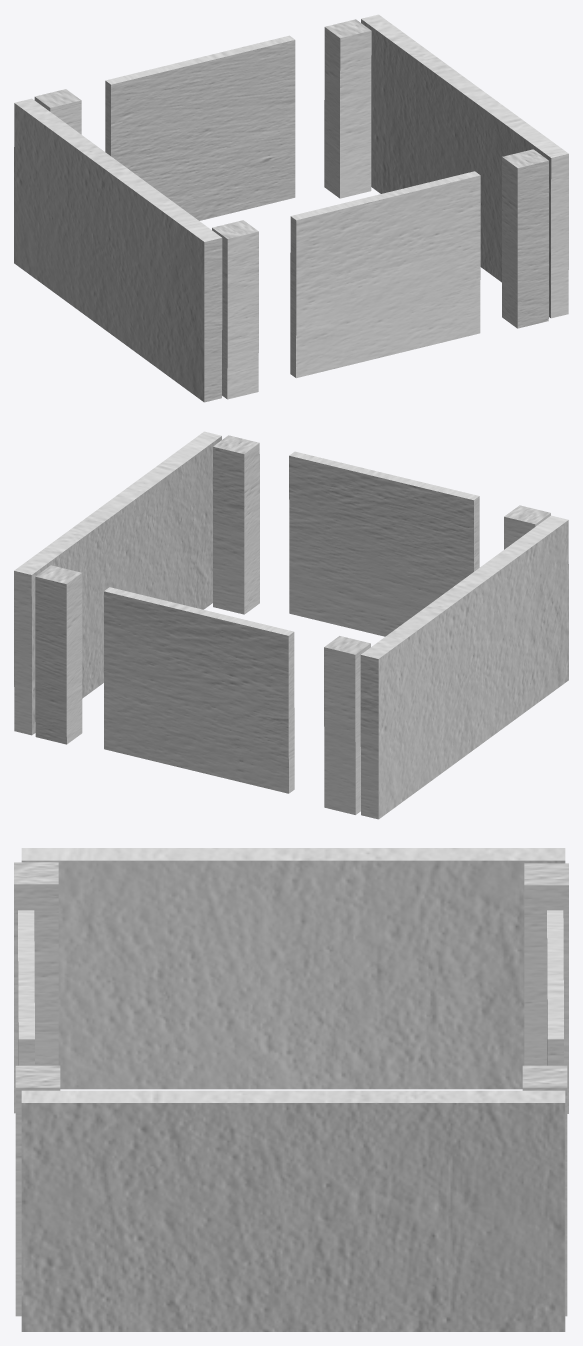
The model's file is exhibit.glb.
3 renders of one model, top to bottom at view 1: azimuth 30°, elevation 25°; view 2: azimuth 150°, elevation 25°; view 3: azimuth 270°, elevation 25°, orthographic. The views are drawn at different scales.
Parts seen in each view (by area): view 1: wall.001; view 2: wall.001; view 3: wall.001.
Boxes of the visible parts, box(x1,y1,x2,y2) form: wall.001: box(14, 14, 568, 402); wall.001: box(14, 431, 568, 819); wall.001: box(14, 848, 568, 1331).
Size of the model in its own units: 79.02 by 33.46 by 72.92.
Materials: 1 (1 with a texture image).
